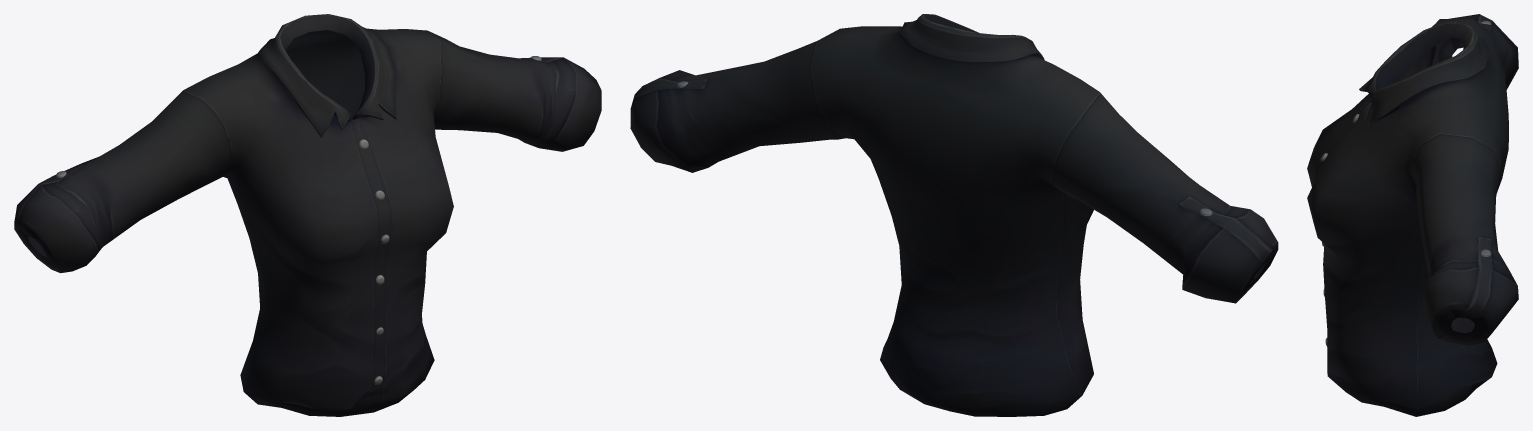
Rendered from shirt2.fbx.
3 renders of one model, left to right at view 1: azimuth 30°, elevation 25°; view 2: azimuth 150°, elevation 25°; view 3: azimuth 270°, elevation 25°, orthographic. The views are drawn at different scales.
Visible parts, largest first — view 1: shirt2; view 2: shirt2; view 3: shirt2.
Part boxes in pixels (x1,y1,x2,y2): shirt2: [14, 14, 601, 416]; shirt2: [630, 14, 1278, 416]; shirt2: [1307, 14, 1518, 416].
Size of the model in its own units: 89.82 by 51.78 by 28.7.
